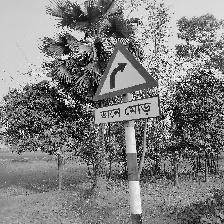Right-turn: (90, 41, 162, 126)
